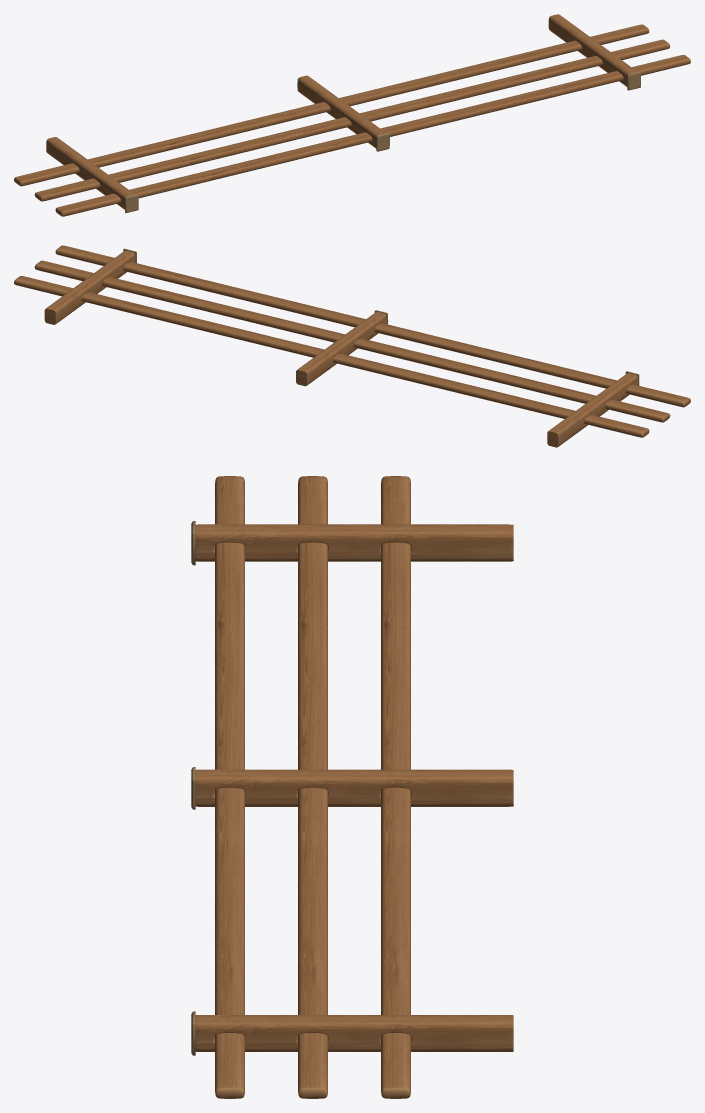
Rendered from fence.obj.
3 renders of one model, top to bottom at view 1: azimuth 30°, elevation 25°; view 2: azimuth 150°, elevation 25°; view 3: azimuth 270°, elevation 25°, orthographic. The views are drawn at different scales.
Visible parts, largest first — view 1: Wooden_Post_and_Rail_Fence_5, Wooden_Post_and_Rail_Fence_4, Wooden_Post_and_Rail_Fence_9, Wooden_Post_and_Rail_Fence_2, Wooden_Post_and_Rail_Fence_3, Wooden_Post_and_Rail_Fence_1; view 2: Wooden_Post_and_Rail_Fence_5, Wooden_Post_and_Rail_Fence_9, Wooden_Post_and_Rail_Fence_4, Wooden_Post_and_Rail_Fence_3, Wooden_Post_and_Rail_Fence_1, Wooden_Post_and_Rail_Fence_2; view 3: Wooden_Post_and_Rail_Fence_9, Wooden_Post_and_Rail_Fence_4, Wooden_Post_and_Rail_Fence_5, Wooden_Post_and_Rail_Fence_2, Wooden_Post_and_Rail_Fence_1, Wooden_Post_and_Rail_Fence_3.
Boxes of the visible parts, x1,y1,x2,y2 form: Wooden_Post_and_Rail_Fence_5: (34,39,670,201); Wooden_Post_and_Rail_Fence_4: (14,24,649,186); Wooden_Post_and_Rail_Fence_9: (55,55,690,216); Wooden_Post_and_Rail_Fence_2: (297,75,385,148); Wooden_Post_and_Rail_Fence_3: (548,14,636,86); Wooden_Post_and_Rail_Fence_1: (46,137,134,209); Wooden_Post_and_Rail_Fence_5: (34,260,670,422); Wooden_Post_and_Rail_Fence_9: (55,245,690,407); Wooden_Post_and_Rail_Fence_4: (14,276,649,437); Wooden_Post_and_Rail_Fence_3: (44,250,135,324); Wooden_Post_and_Rail_Fence_1: (547,373,637,447); Wooden_Post_and_Rail_Fence_2: (296,311,386,386); Wooden_Post_and_Rail_Fence_9: (215,476,244,1098); Wooden_Post_and_Rail_Fence_4: (381,476,410,1098); Wooden_Post_and_Rail_Fence_5: (298,476,327,1098); Wooden_Post_and_Rail_Fence_2: (195,769,513,806); Wooden_Post_and_Rail_Fence_1: (195,524,513,561); Wooden_Post_and_Rail_Fence_3: (195,1015,513,1051).
Size of the model in its own units: 271 by 6.61 by 60.08.
